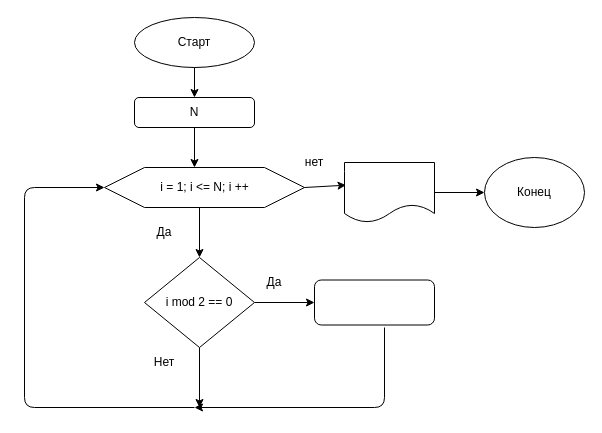
This 602x433 diagram has some shape labels left out. Here are the shapes that lost their labels. From the top down, the centre of each, then its label:
the point at 389,192: Вывод четных чисел
the point at 374,302: i четное
